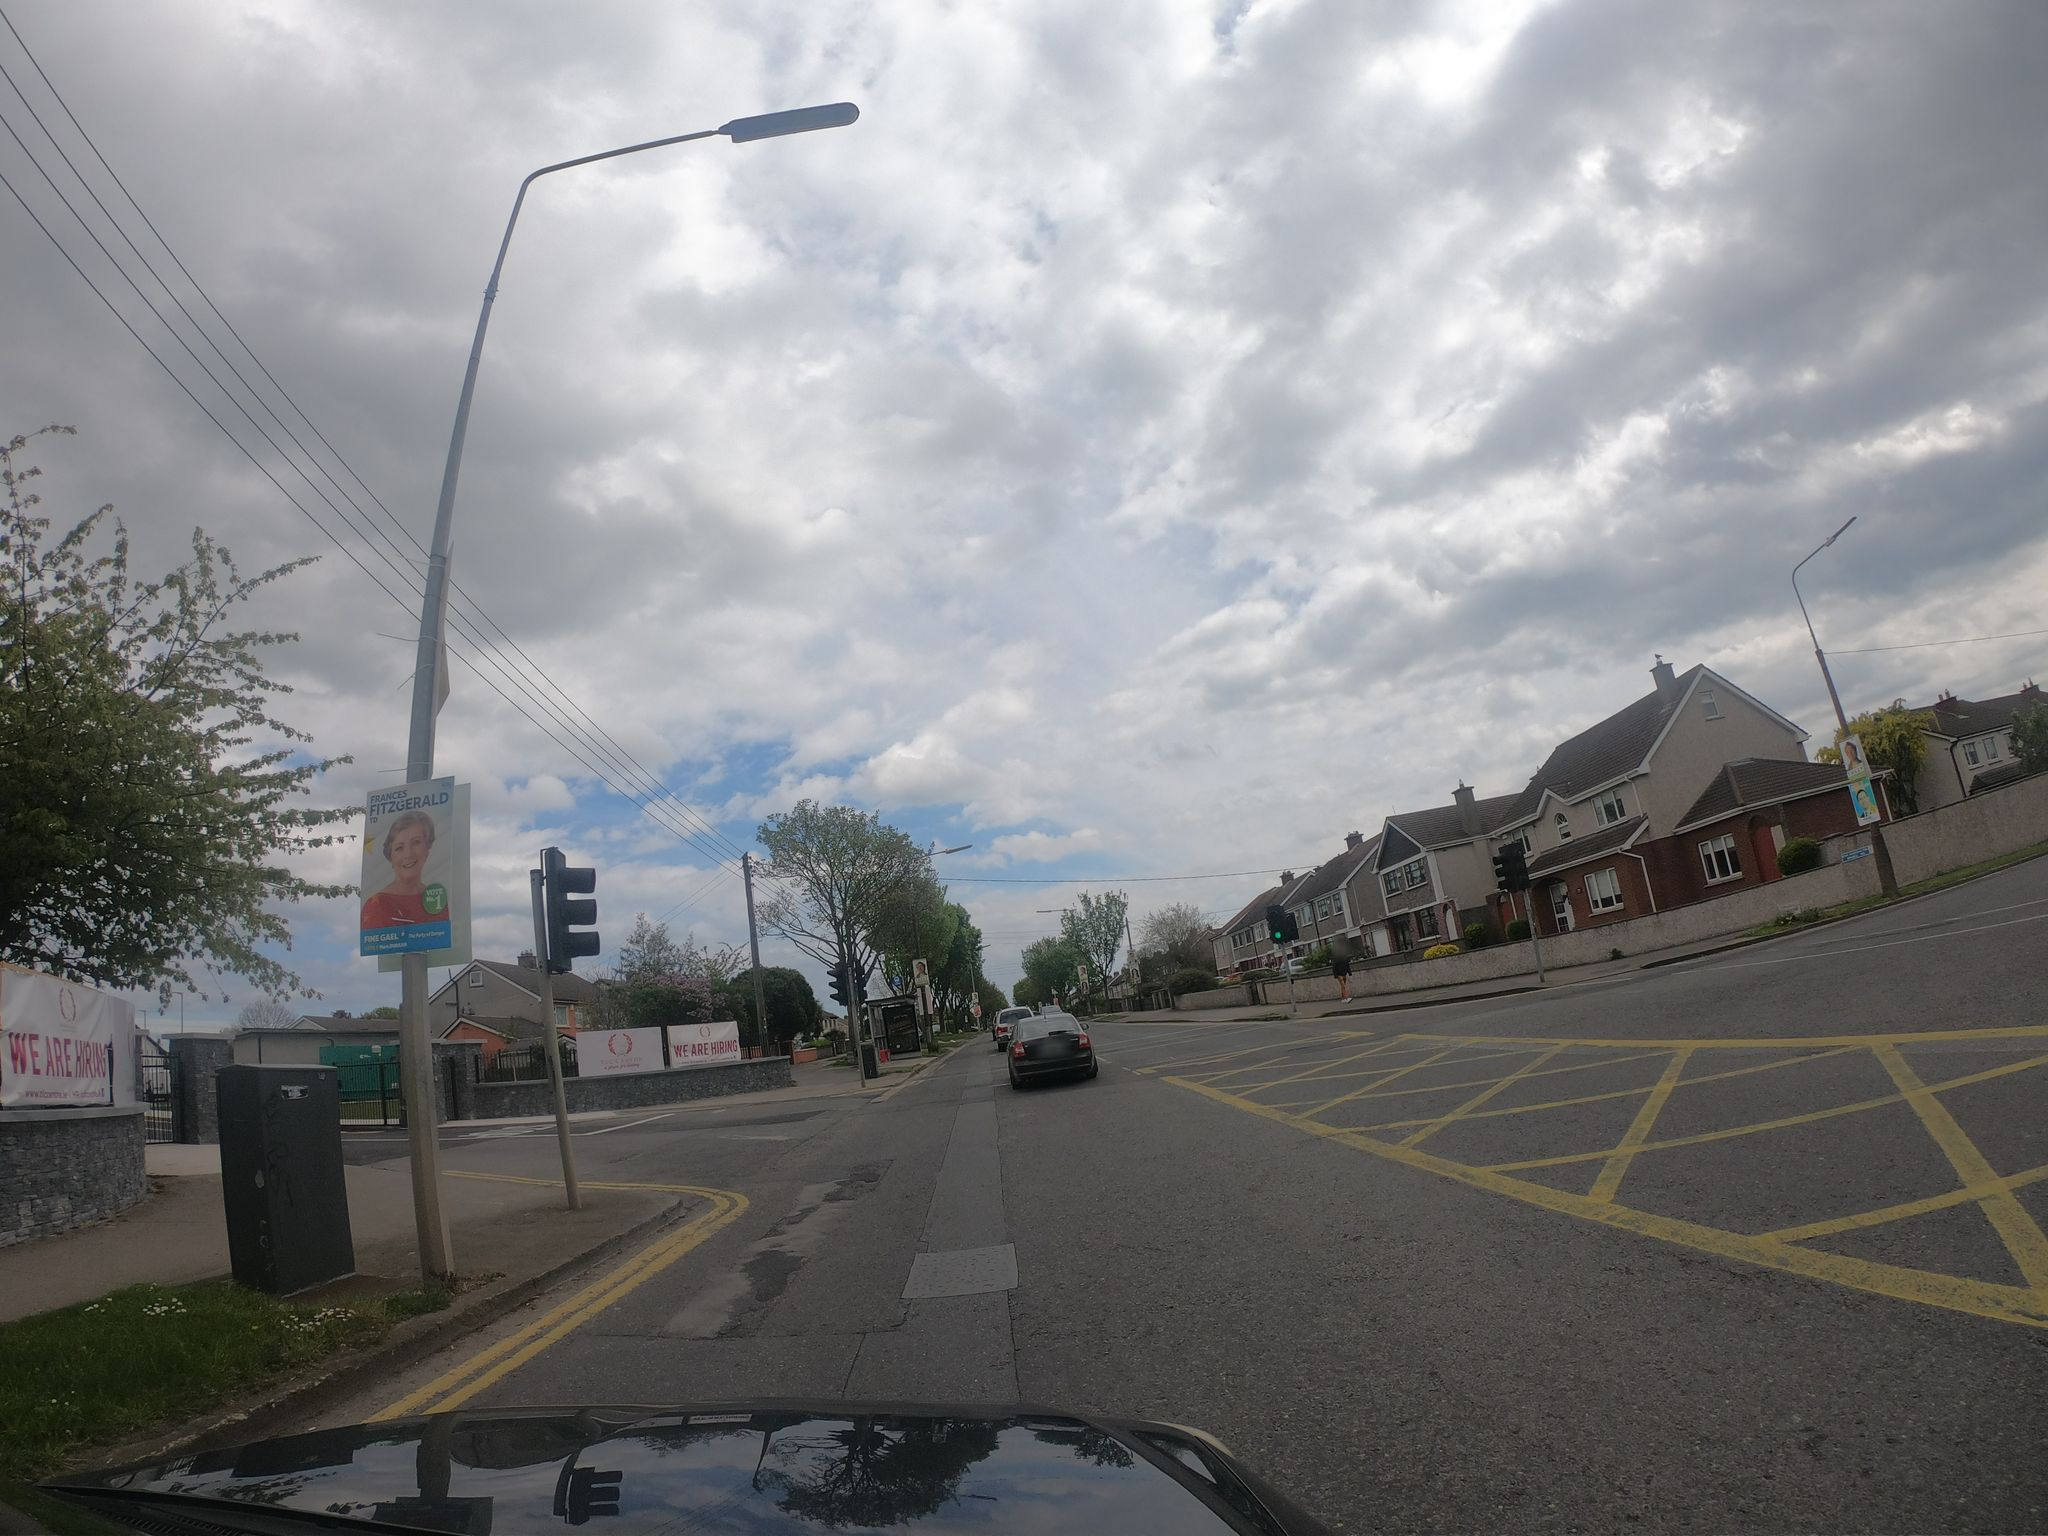vinyl banner: (2, 962, 148, 1131), (660, 1004, 766, 1084)
